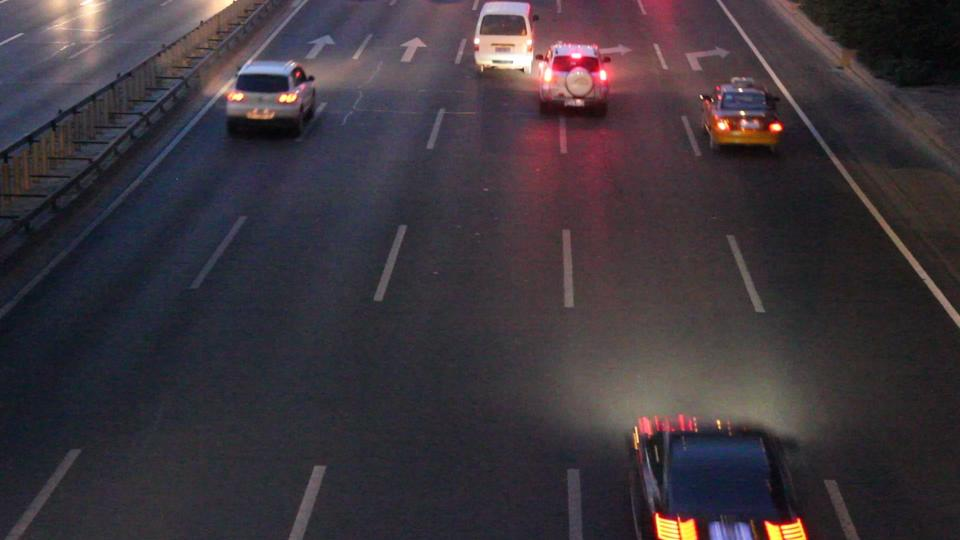Car: (630, 421, 798, 533), (228, 63, 314, 128), (698, 85, 776, 145), (538, 45, 606, 105)
Minivan: (471, 1, 532, 69)
